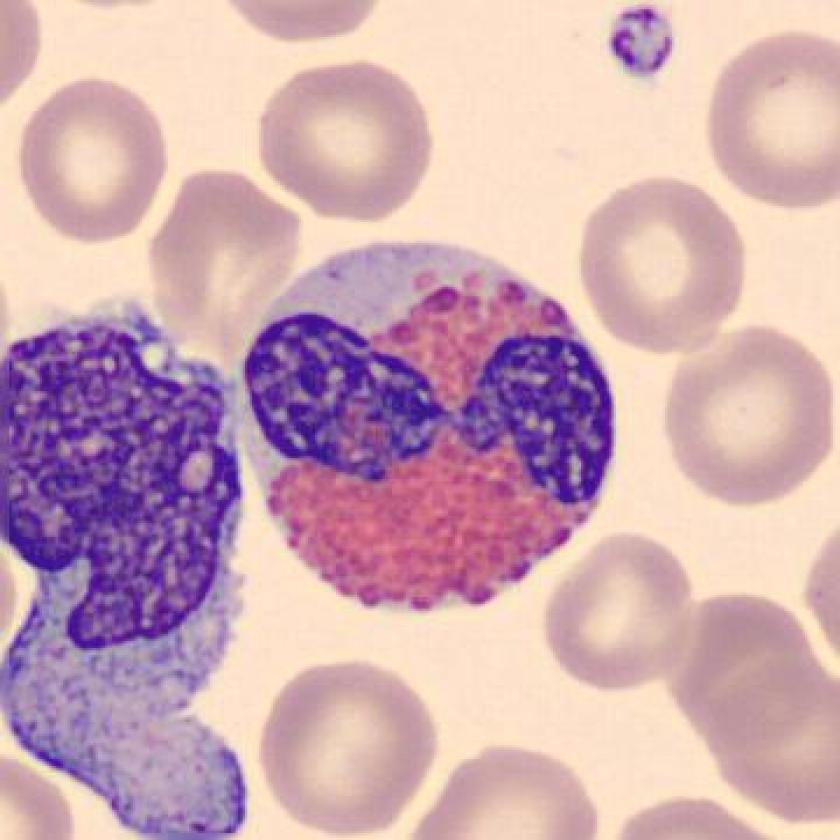eosinophil: (227, 228, 624, 623)
